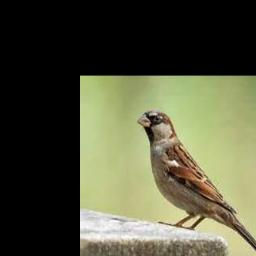Sparrow: (137, 111, 256, 256)
